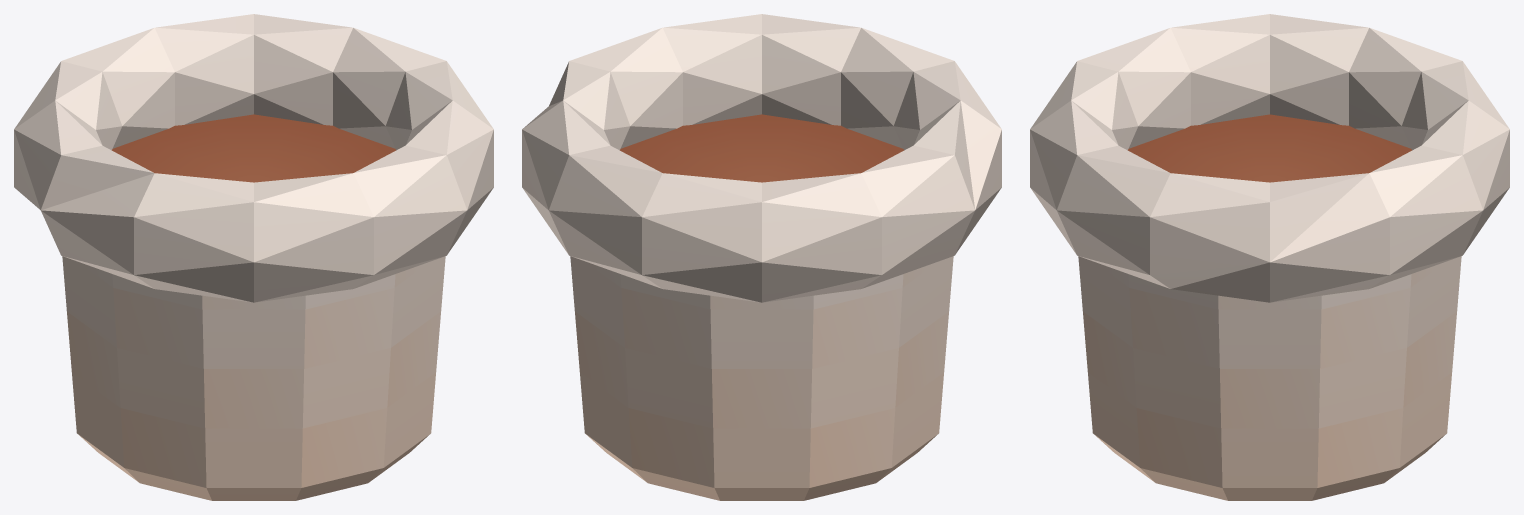
File: decor-basket.glb
3 views of the same model, side by side, from view 1: azimuth 30°, elevation 25°; view 2: azimuth 150°, elevation 25°; view 3: azimuth 270°, elevation 25° (orthographic).
Visible parts, largest first — view 1: pot_D_medium; view 2: pot_D_medium; view 3: pot_D_medium.
Boxes of the visible parts, box(x1,y1,x2,y2) form: pot_D_medium: box(14, 14, 493, 500); pot_D_medium: box(522, 14, 1001, 500); pot_D_medium: box(1030, 14, 1509, 500).
Size of the model in its own units: 0.4 by 0.3 by 0.3898.
1 material, 1 textured.
